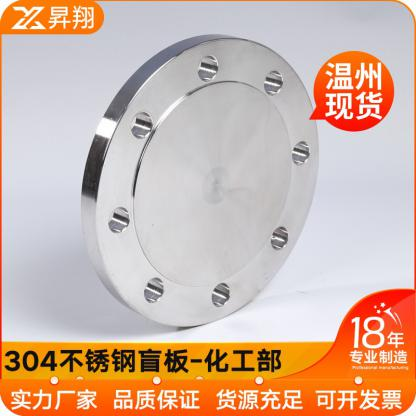FOD: (72, 30, 328, 334)
